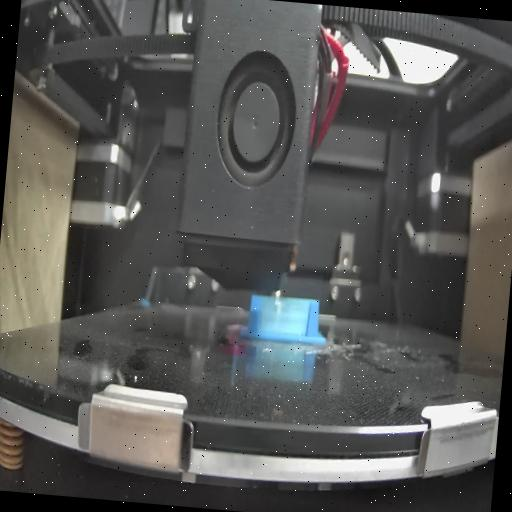stringing: (259, 294, 310, 336)
